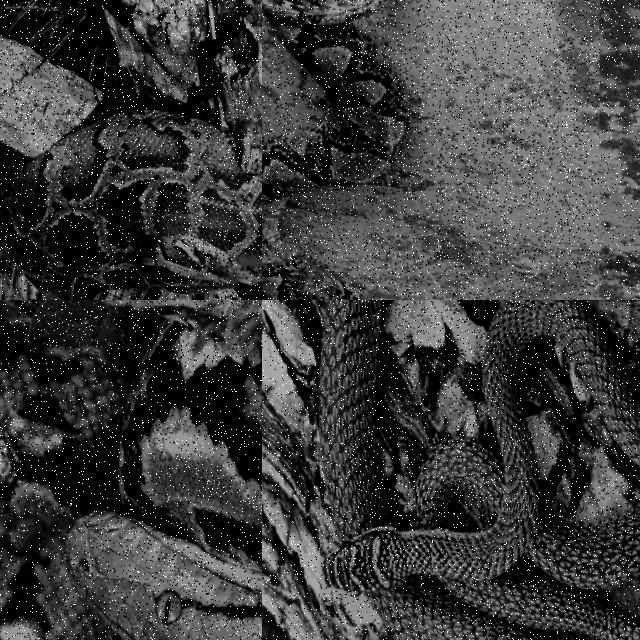Chrysopelea ornata: (320, 300, 639, 639)
Malayopython reticulatus: (0, 321, 261, 639), (262, 0, 408, 299)
Python bivittatus: (0, 110, 261, 299)
